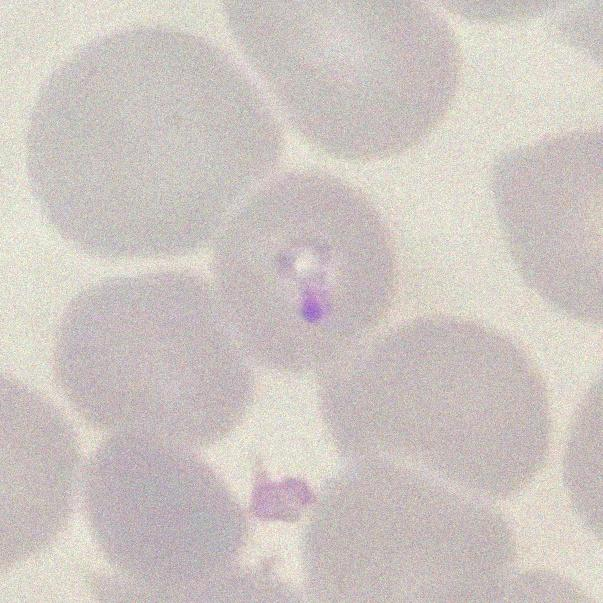Infected: (210, 169, 397, 374)
Uninfected: (28, 27, 285, 261), (310, 317, 554, 490), (221, 0, 462, 159), (52, 271, 256, 447), (302, 458, 517, 603), (82, 425, 246, 576)
